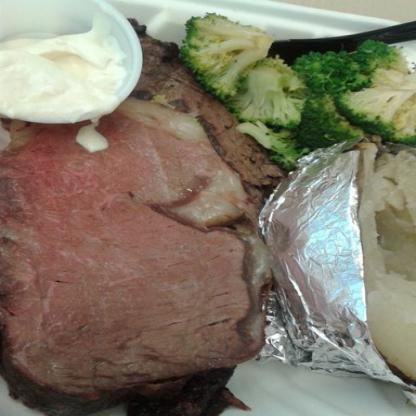beef: (0, 20, 271, 415)
broccoli: (166, 7, 272, 98), (341, 62, 415, 140)
